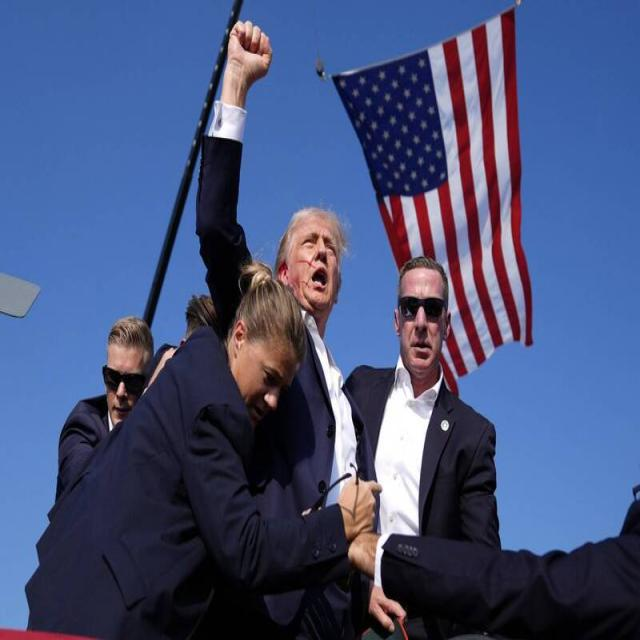stand: (58, 267, 316, 640), (337, 243, 523, 633), (249, 116, 357, 640), (36, 303, 132, 626)
